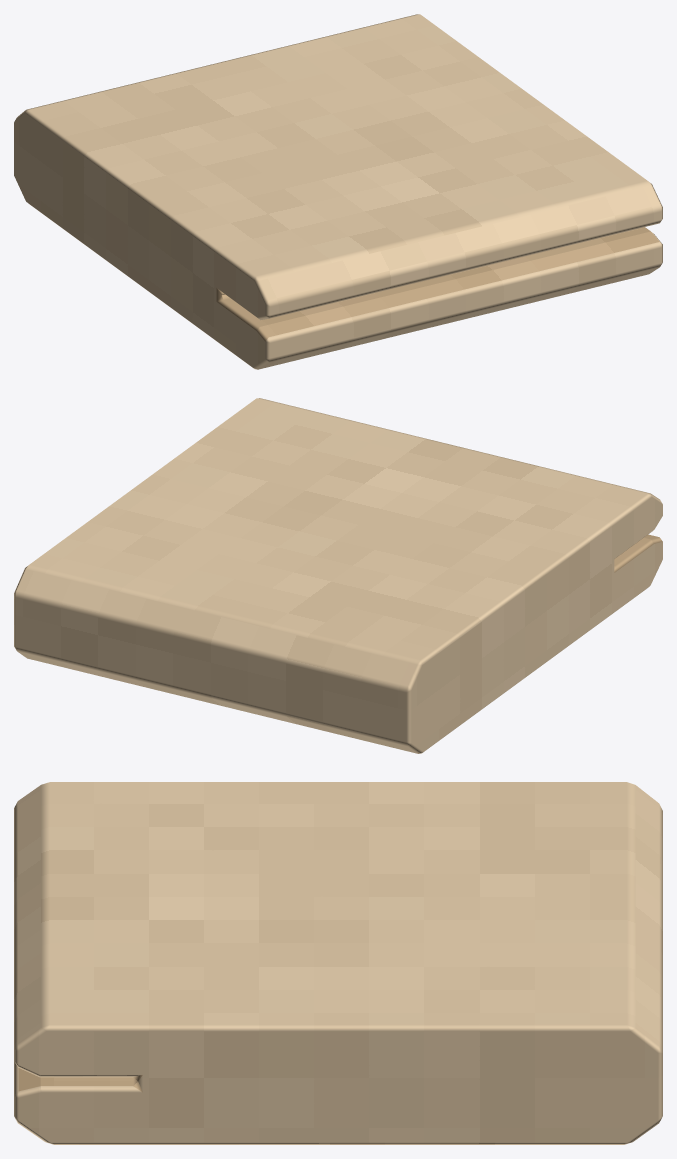
The model's file is Fold-1.glb.
3 views of the same model, one above another, from view 1: azimuth 30°, elevation 25°; view 2: azimuth 150°, elevation 25°; view 3: azimuth 270°, elevation 25° (orthographic). The views are drawn at different scales.
Parts seen in each view (by area): view 1: Fold-1; view 2: Fold-1; view 3: Fold-1.
Part boxes in pixels (<box>): Fold-1: <box>14,14,662,369</box>; Fold-1: <box>14,398,662,753</box>; Fold-1: <box>14,782,662,1144</box>.
Bounding box in the file's own units: 0.414 × 0.094 × 0.46.
2 materials, 2 textured.
